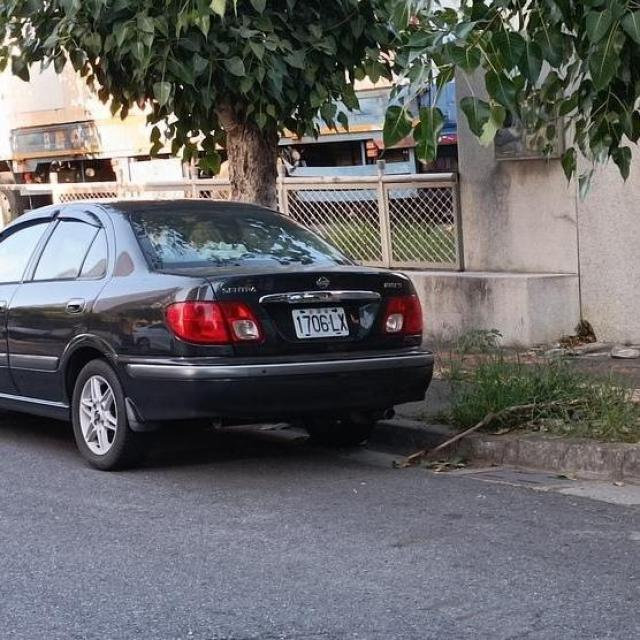W: (284, 298, 352, 341)
